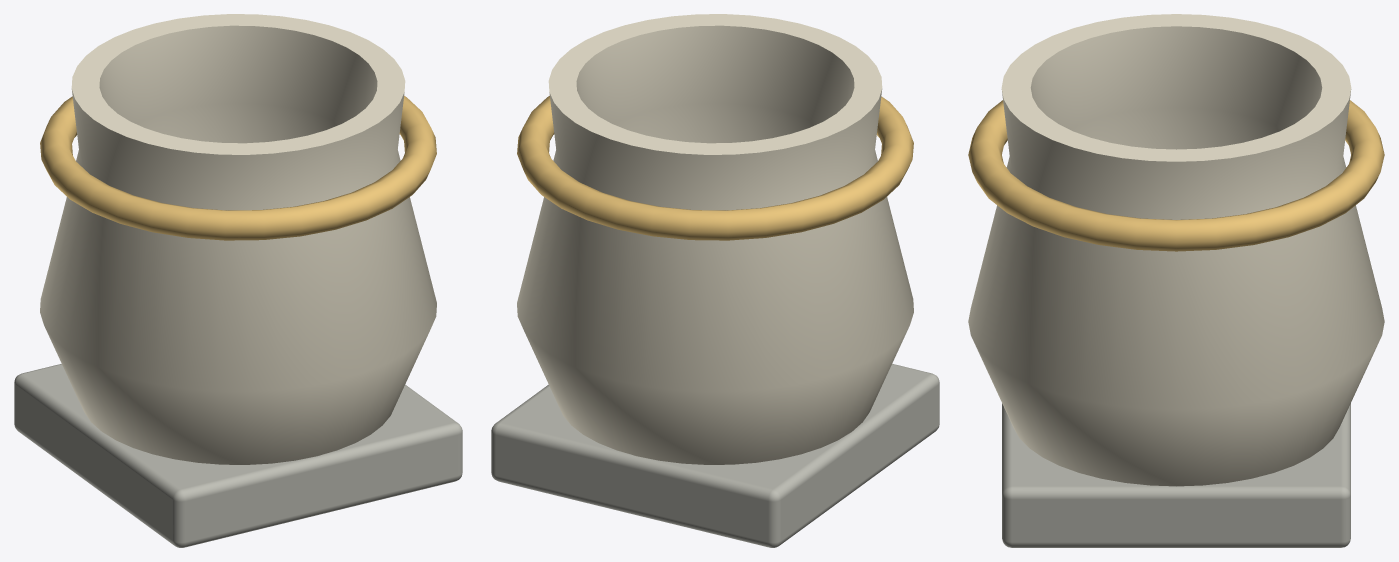
File: royal-court-and-throne-palace-garden-urn-903587fa__29416.glb
The picture shows the model from 3 angles, left to right: view 1: azimuth 30°, elevation 25°; view 2: azimuth 150°, elevation 25°; view 3: azimuth 270°, elevation 25°; orthographic projection. The views are drawn at different scales.
Visible parts, largest first — view 1: garden-urn; view 2: garden-urn; view 3: garden-urn.
Part boxes in pixels (bbox=[...]): garden-urn: bbox=[14, 14, 462, 547]; garden-urn: bbox=[491, 14, 939, 547]; garden-urn: bbox=[968, 14, 1384, 547].
Size of the model in its own units: 0.62 by 0.64 by 0.62.
